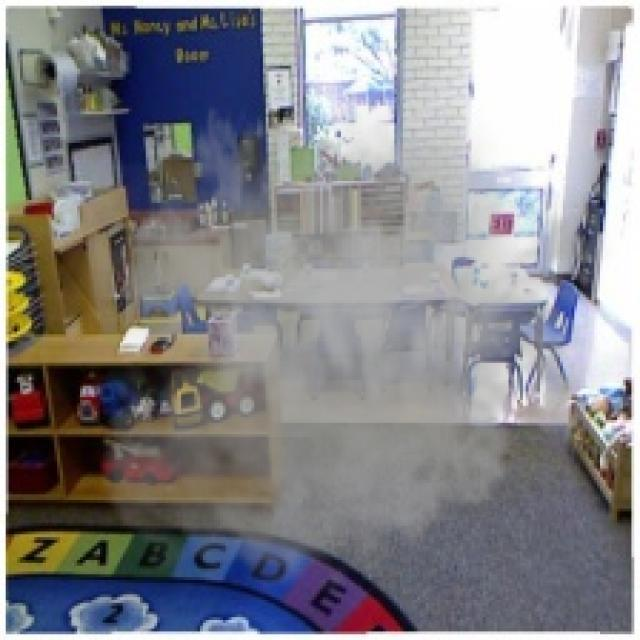Smoke: (88, 71, 614, 603)
